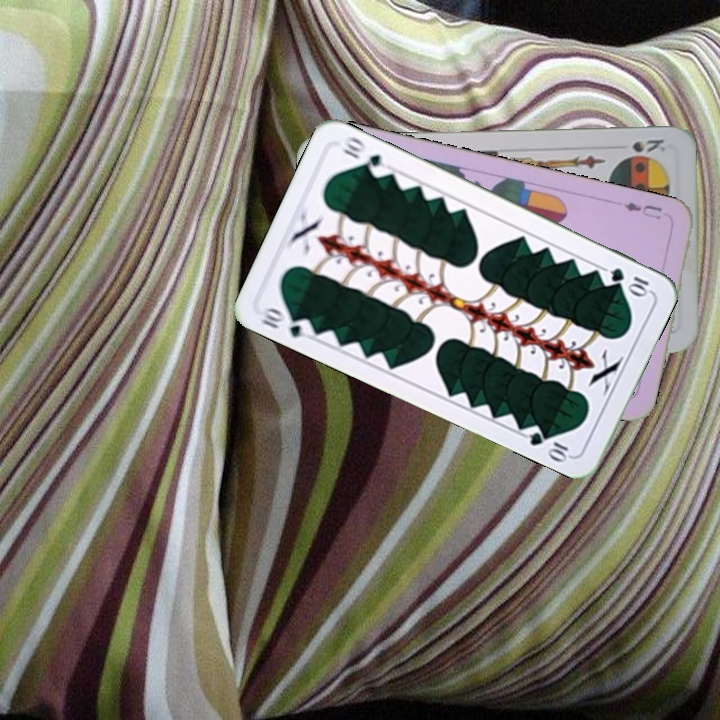EU: (619, 198, 665, 222)
G10: (255, 303, 316, 340), (606, 263, 654, 298)
SK: (621, 135, 667, 160)
